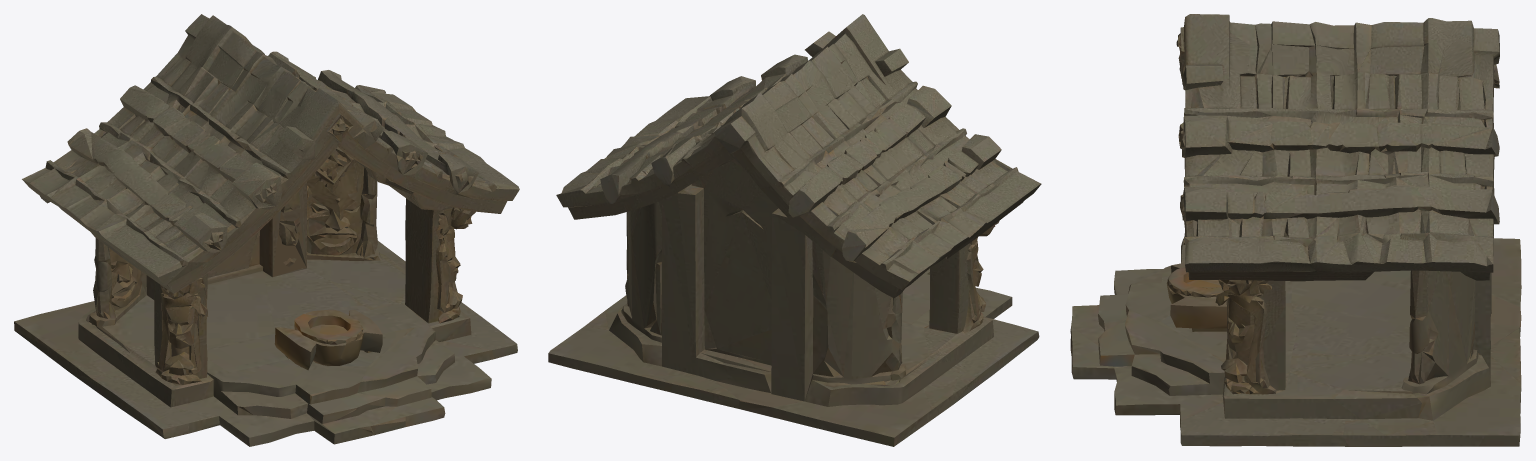
The model's file is anitoCore.glb.
3 renders of one model, left to right at view 1: azimuth 30°, elevation 25°; view 2: azimuth 150°, elevation 25°; view 3: azimuth 270°, elevation 25°, orthographic. The views are drawn at different scales.
Parts seen in each view (by area): view 1: mesh_node; view 2: mesh_node; view 3: mesh_node.
Boxes of the visible parts, bbox=[...] form: mesh_node: bbox=[14, 14, 519, 446]; mesh_node: bbox=[548, 14, 1041, 446]; mesh_node: bbox=[1070, 14, 1521, 446].
Size of the model in its own units: 1.89 by 1.45 by 1.77.
Materials: 1 (1 with a texture image).
